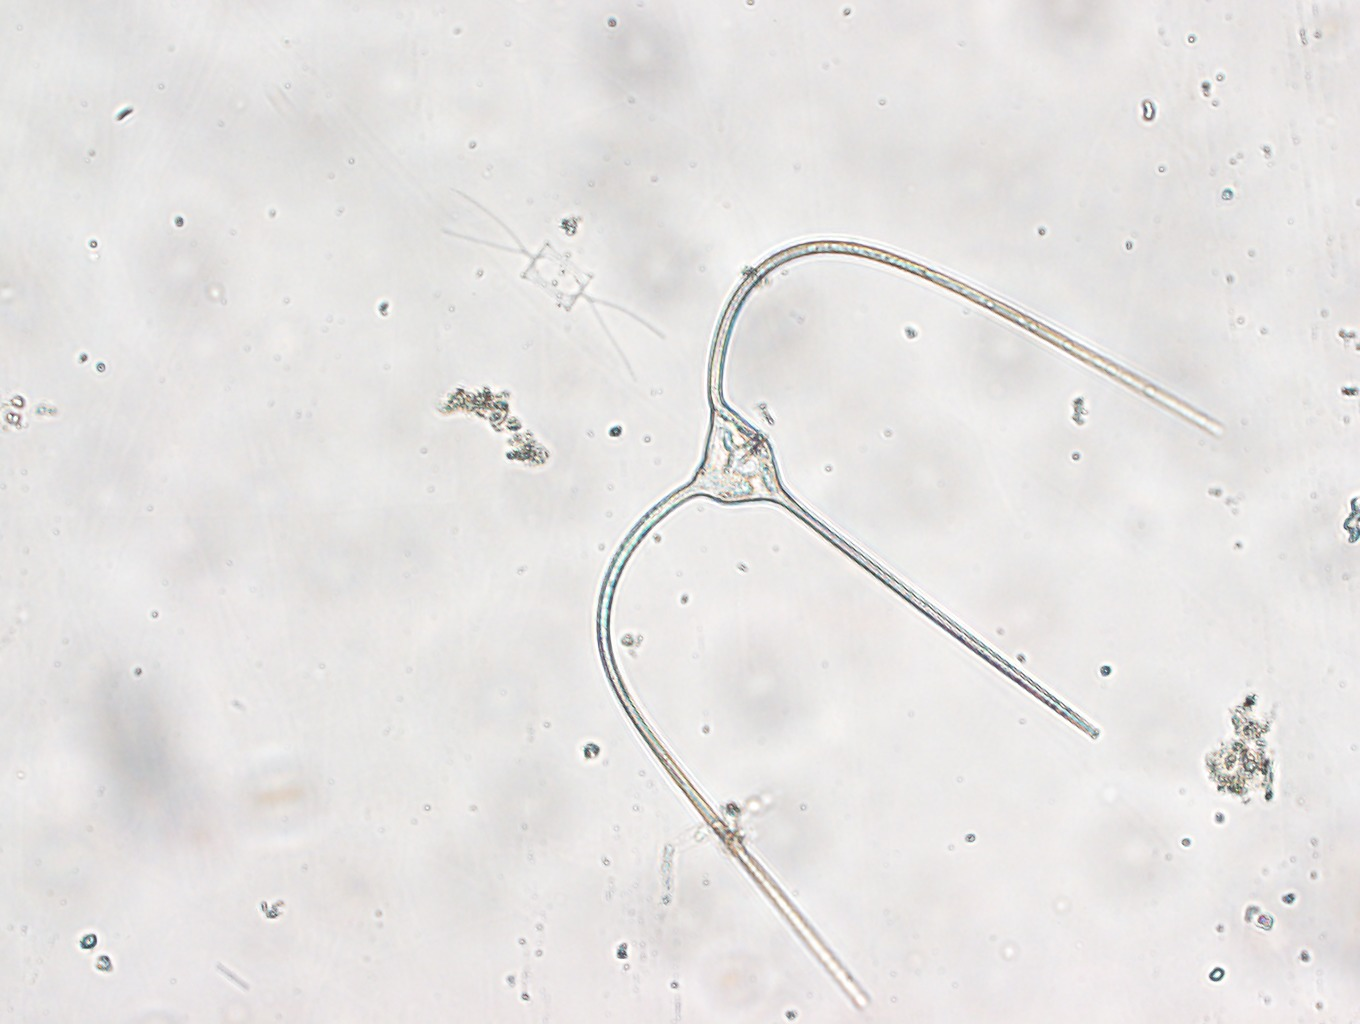ceratium trichoceros: (595, 240, 1226, 1013)
chaetoceros: (442, 186, 669, 381)
